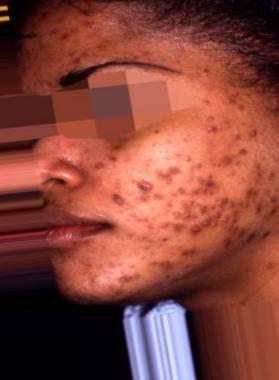Acne: (194, 103, 262, 157), (173, 213, 249, 243), (130, 170, 181, 202), (85, 181, 124, 212), (200, 167, 238, 196)
